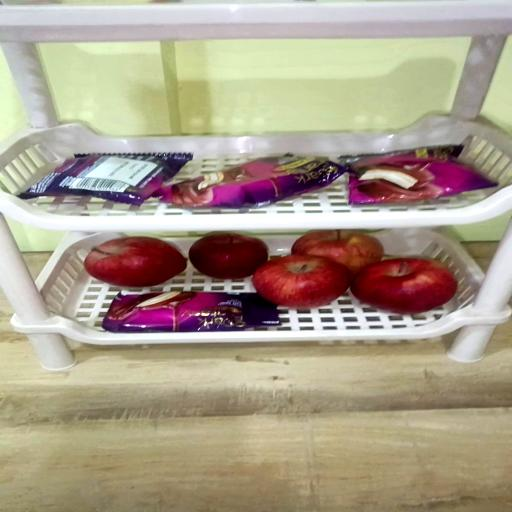Apple: (350, 259, 456, 316), (83, 238, 186, 289), (255, 256, 351, 310), (291, 232, 384, 276), (190, 235, 270, 281)
Choco Pie: (158, 155, 346, 212), (342, 146, 496, 206), (19, 155, 191, 208), (103, 291, 281, 335)
